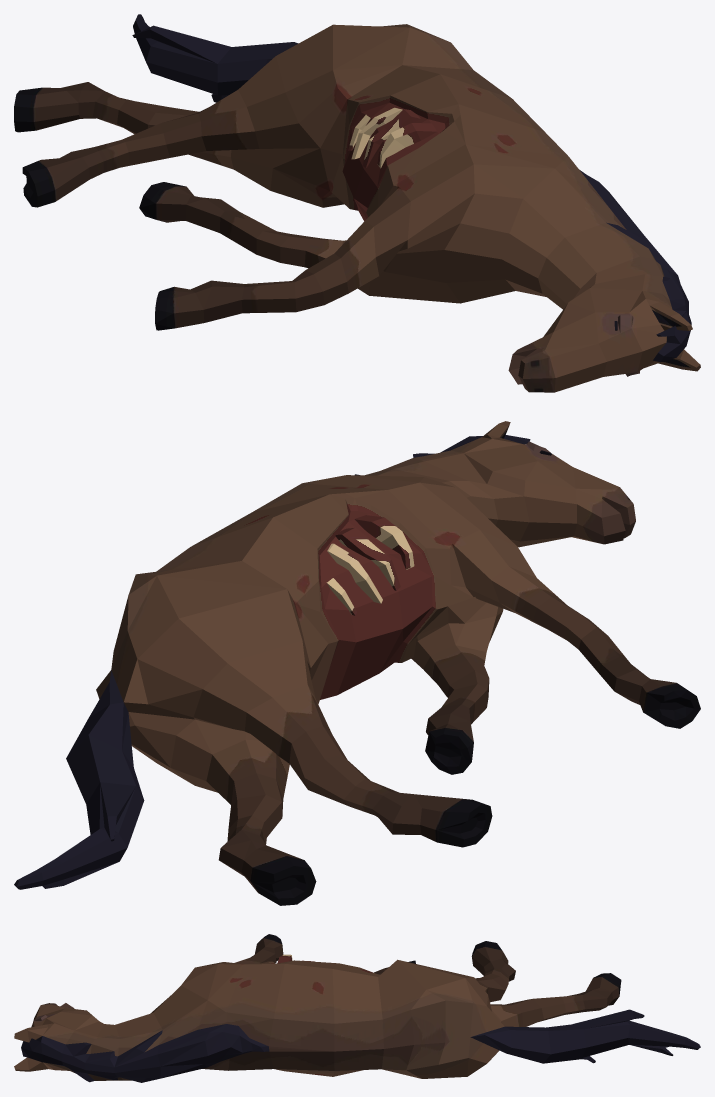
File: kingdom_SM_Prop_Dead_Horse_02.gltf
The picture shows the model from 3 angles, top to bottom: view 1: azimuth 30°, elevation 25°; view 2: azimuth 150°, elevation 25°; view 3: azimuth 270°, elevation 25°; orthographic projection. The views are drawn at different scales.
Visible parts, largest first — view 1: SM_Prop_Dead_Horse_02; view 2: SM_Prop_Dead_Horse_02; view 3: SM_Prop_Dead_Horse_02.
Boxes of the visible parts, x1,y1,x2,y2 form: SM_Prop_Dead_Horse_02: [14, 14, 700, 392]; SM_Prop_Dead_Horse_02: [14, 421, 700, 905]; SM_Prop_Dead_Horse_02: [14, 934, 700, 1082].
Size of the model in its own units: 1.52 by 0.5481 by 3.11.
Materials: 1 (1 with a texture image).
